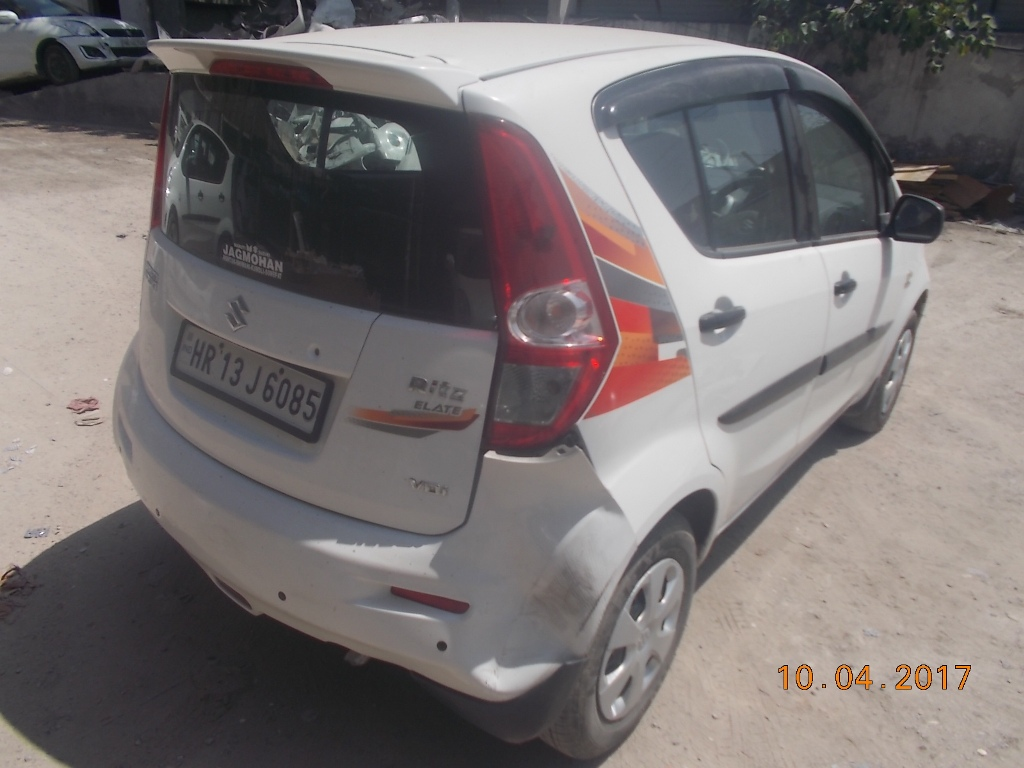Dent: (476, 486, 572, 684)
